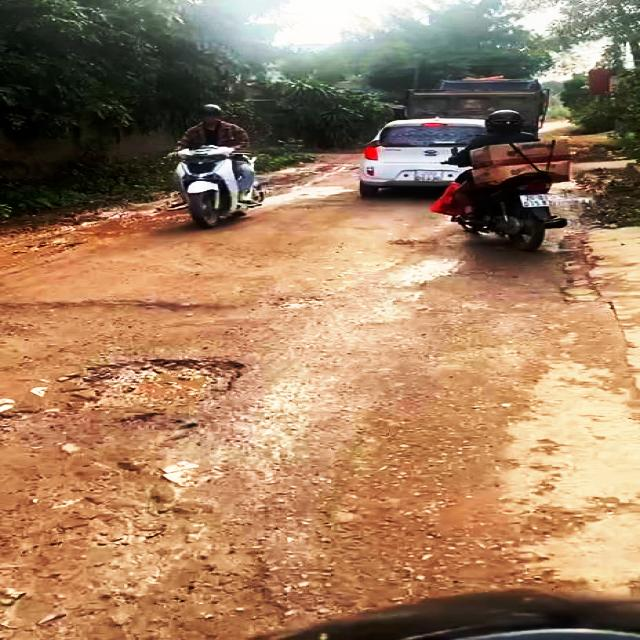pothole: (0, 350, 257, 478), (0, 291, 321, 344)
